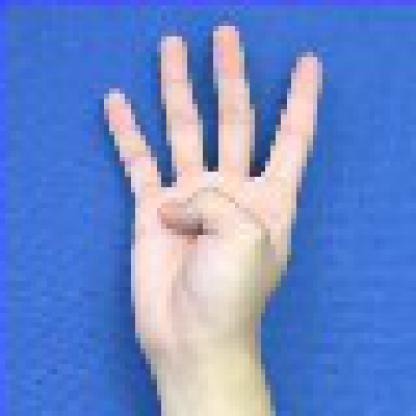four: (95, 16, 346, 377)
